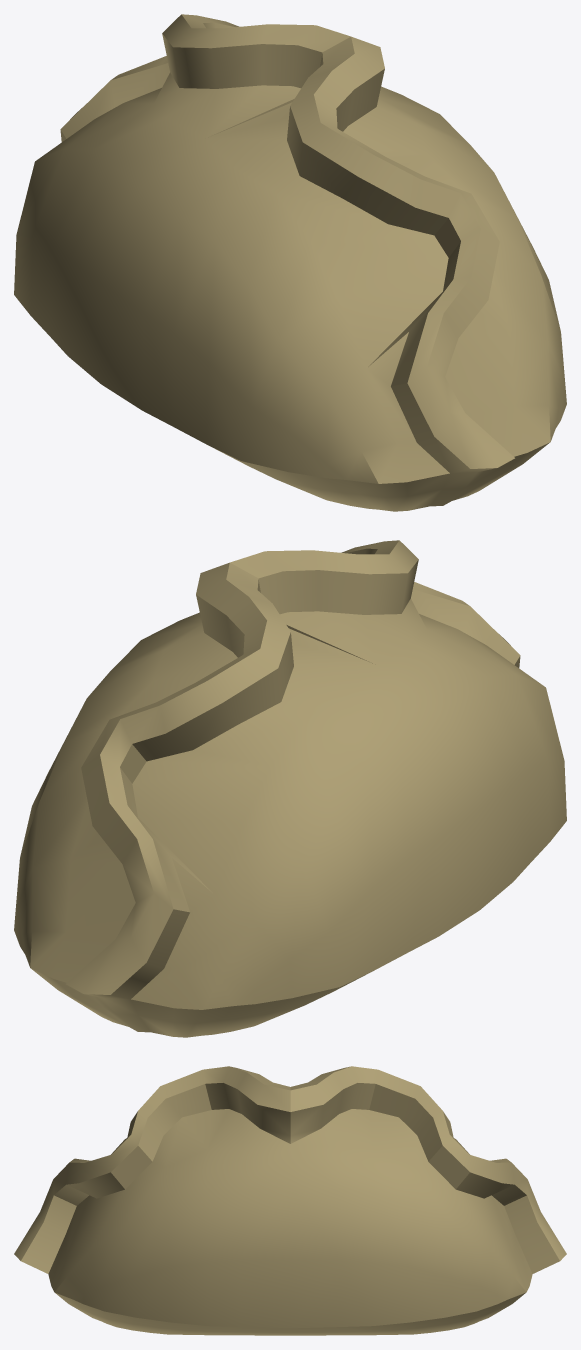
The model's file is gyoza.glb.
The picture shows the model from 3 angles, top to bottom: view 1: azimuth 30°, elevation 25°; view 2: azimuth 150°, elevation 25°; view 3: azimuth 270°, elevation 25°; orthographic projection. The views are drawn at different scales.
Visible parts, largest first — view 1: Food_Gyoza; view 2: Food_Gyoza; view 3: Food_Gyoza.
Boxes of the visible parts, x1,y1,x2,y2 form: Food_Gyoza: (14, 14, 566, 511); Food_Gyoza: (14, 540, 566, 1037); Food_Gyoza: (14, 1066, 566, 1335).
Bounding box in the file's own units: 0.2968 × 0.2588 × 0.5511.
